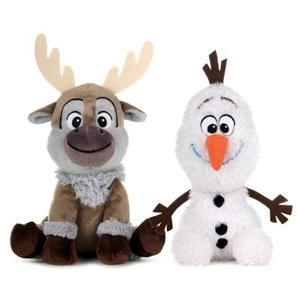sven: (26, 30, 154, 103)
